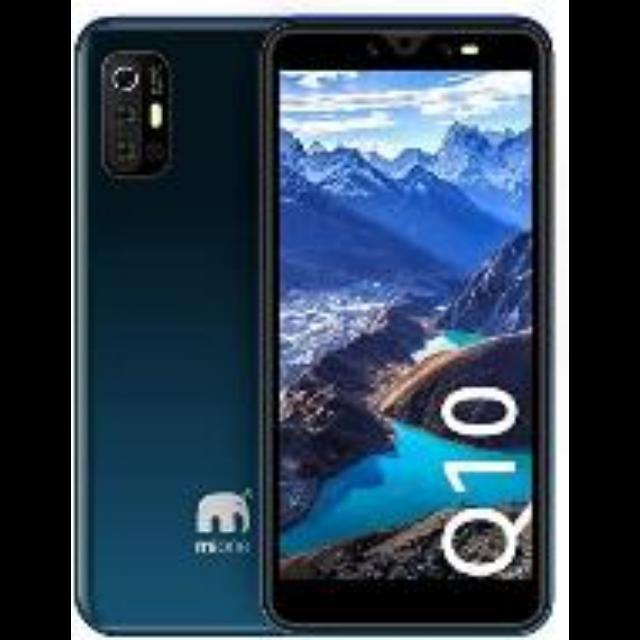phone: (260, 24, 552, 632)
